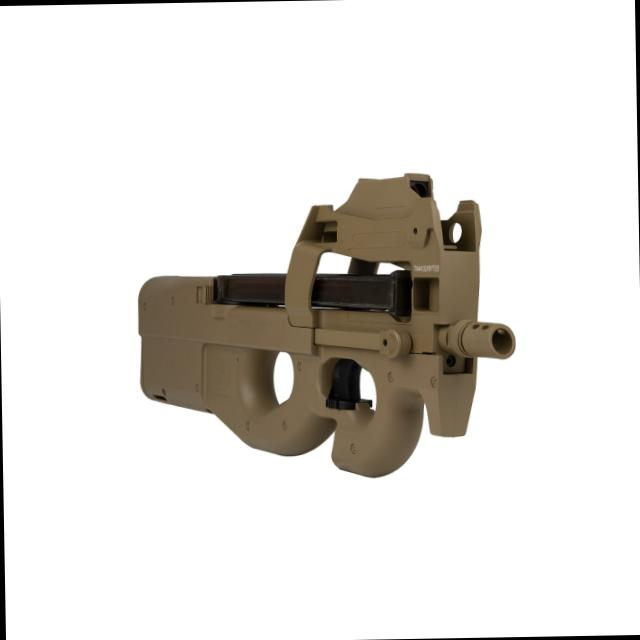Gun: (108, 170, 548, 490)
